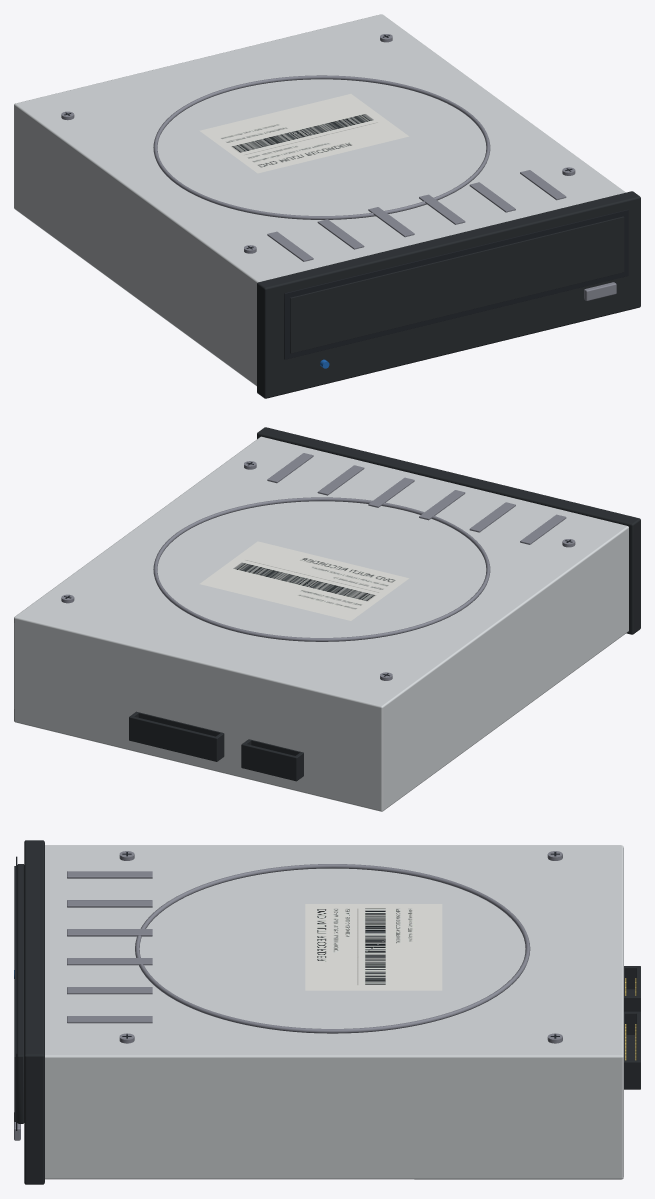
The model's file is optical-drive.glb.
3 renders of one model, top to bottom at view 1: azimuth 30°, elevation 25°; view 2: azimuth 150°, elevation 25°; view 3: azimuth 270°, elevation 25°, orthographic. The views are drawn at different scales.
Visible parts, largest first — view 1: Metal housing, Front bezel, Tray face, Drive manufacturing label, Tray seam shadow, Stamped disc housing; view 2: Metal housing, Drive manufacturing label, Front bezel, Connector end wall (×2), Stamped disc housing; view 3: Metal housing, Drive manufacturing label, Front bezel, Stamped disc housing, Pressed lid reinforcing rib (×6), Disc tray, Tray seam shadow, Tray face.
Part boxes in pixels (x1=…): Metal housing: x1=14, y1=14, x2=625, y2=386; Front bezel: x1=257, y1=191, x2=640, y2=398; Tray face: x1=290, y1=216, x2=624, y2=353; Drive manufacturing label: x1=199, y1=94, x2=408, y2=173; Tray seam shadow: x1=284, y1=209, x2=628, y2=359; Stamped disc housing: x1=153, y1=75, x2=490, y2=219; Metal housing: x1=14, y1=436, x2=628, y2=811; Drive manufacturing label: x1=200, y1=541, x2=408, y2=620; Front bezel: x1=257, y1=427, x2=640, y2=634; Connector end wall (×2): x1=129, y1=716, x2=298, y2=780; Stamped disc housing: x1=153, y1=497, x2=490, y2=641; Metal housing: x1=45, y1=845, x2=623, y2=1179; Drive manufacturing label: x1=305, y1=904, x2=442, y2=990; Front bezel: x1=24, y1=840, x2=44, y2=1184; Stamped disc housing: x1=135, y1=864, x2=530, y2=1033; Pressed lid reinforcing rib (×6): x1=67, y1=871, x2=152, y2=1023; Disc tray: x1=17, y1=864, x2=24, y2=1123; Tray seam shadow: x1=16, y1=856, x2=17, y2=1130; Tray face: x1=14, y1=866, x2=15, y2=1121.
Size of the model in its own units: 0.149 by 0.0427 by 0.183.
3 materials, 3 textured.
